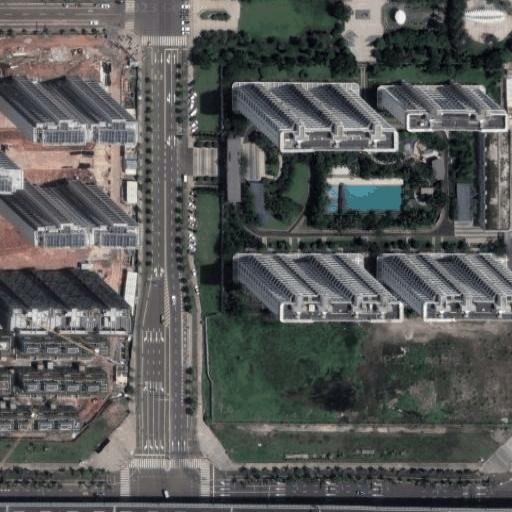building: (236, 252, 359, 281), (385, 254, 507, 282), (242, 83, 358, 111), (382, 82, 480, 112), (477, 131, 505, 227), (0, 271, 97, 297), (5, 185, 110, 209), (0, 80, 102, 103), (19, 339, 109, 360), (23, 374, 107, 394), (0, 413, 79, 430), (227, 138, 240, 201), (456, 183, 472, 222), (123, 272, 137, 315), (124, 110, 135, 159), (246, 185, 262, 211), (505, 79, 512, 121), (0, 336, 13, 358), (0, 375, 12, 394), (127, 181, 137, 202), (431, 159, 442, 178), (117, 367, 129, 381), (126, 161, 137, 173), (397, 10, 405, 24), (508, 121, 512, 146), (420, 187, 431, 194), (81, 264, 94, 268)
